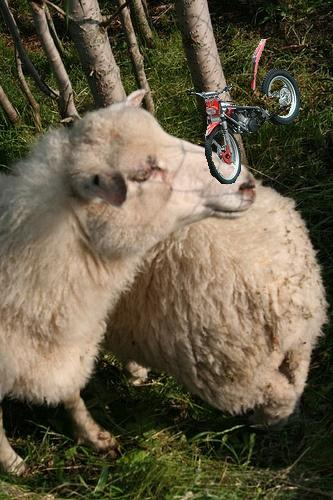tampered: (188, 40, 300, 184)
